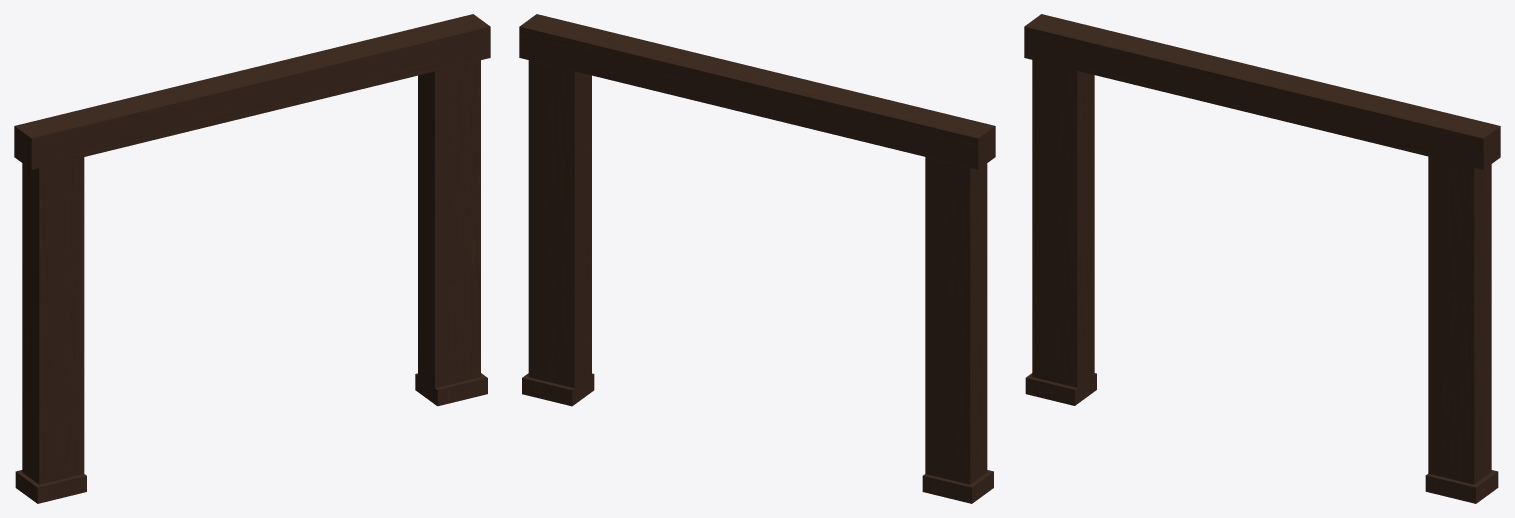
File: Doorframe_DW_B.FBX
The picture shows the model from 3 angles, left to right: view 1: azimuth 30°, elevation 25°; view 2: azimuth 150°, elevation 25°; view 3: azimuth 330°, elevation 25°; orthographic projection.
Parts seen in each view (by area): view 1: DoorFrame_DW_A; view 2: DoorFrame_DW_A; view 3: DoorFrame_DW_A.
Part boxes in pixels (x1,y1,x2,y2): DoorFrame_DW_A: (14,14,490,503); DoorFrame_DW_A: (519,14,995,503); DoorFrame_DW_A: (1024,14,1500,503).
Bounding box in the file's own units: 537 × 408 × 44.91.
